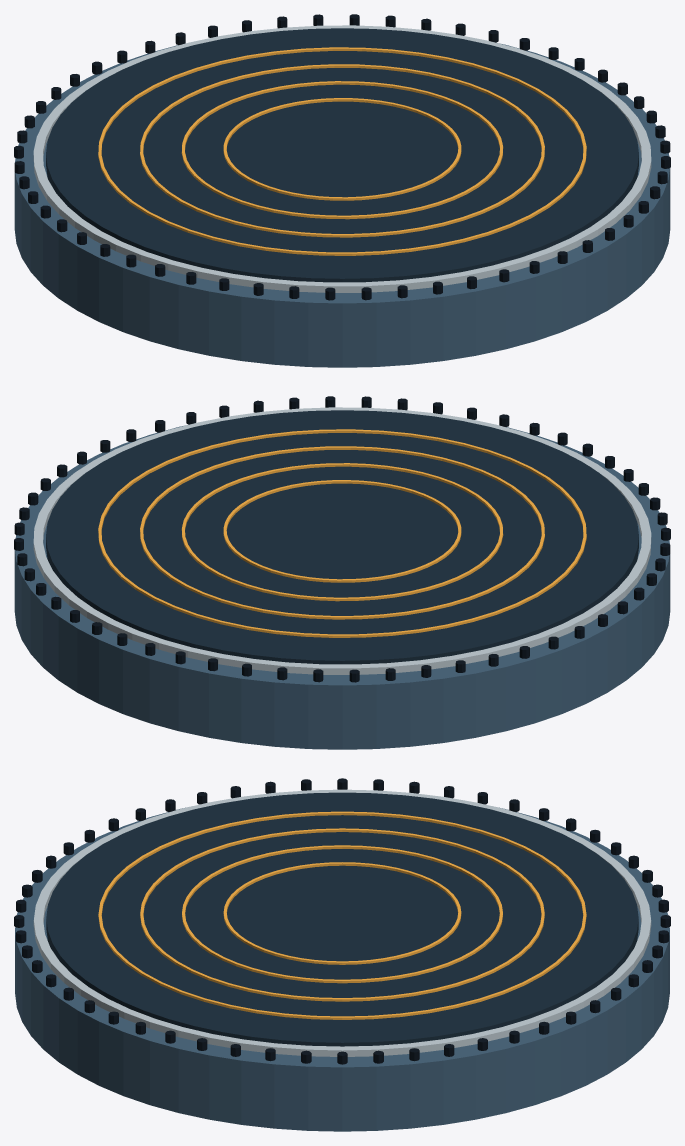
The model's file is 08_L77_BulkCopperPolishingPlaten.fbx.
3 views of the same model, one above another, from view 1: azimuth 30°, elevation 25°; view 2: azimuth 150°, elevation 25°; view 3: azimuth 270°, elevation 25° (orthographic).
Parts seen in each view (by area): view 1: BulkCopperPolishingPlaten_Part_0006, BulkCopperPolishingPlaten_Part_0000, BulkCopperPolishingPlaten_Part_0001, BulkCopperPolishingPlaten_Part_0063, BulkCopperPolishingPlaten_Part_0064, BulkCopperPolishingPlaten_Part_0065, BulkCopperPolishingPlaten_Part_0066; view 2: BulkCopperPolishingPlaten_Part_0006, BulkCopperPolishingPlaten_Part_0000, BulkCopperPolishingPlaten_Part_0001, BulkCopperPolishingPlaten_Part_0063, BulkCopperPolishingPlaten_Part_0064, BulkCopperPolishingPlaten_Part_0065, BulkCopperPolishingPlaten_Part_0066; view 3: BulkCopperPolishingPlaten_Part_0006, BulkCopperPolishingPlaten_Part_0000, BulkCopperPolishingPlaten_Part_0001, BulkCopperPolishingPlaten_Part_0063, BulkCopperPolishingPlaten_Part_0064, BulkCopperPolishingPlaten_Part_0065, BulkCopperPolishingPlaten_Part_0066.
Part boxes in pixels (x1,y1,x2,y2): BulkCopperPolishingPlaten_Part_0006: (46, 28, 638, 282); BulkCopperPolishingPlaten_Part_0000: (14, 43, 670, 367); BulkCopperPolishingPlaten_Part_0001: (33, 25, 651, 292); BulkCopperPolishingPlaten_Part_0063: (98, 47, 586, 255); BulkCopperPolishingPlaten_Part_0064: (140, 64, 544, 237); BulkCopperPolishingPlaten_Part_0065: (181, 81, 503, 219); BulkCopperPolishingPlaten_Part_0066: (223, 98, 461, 200); BulkCopperPolishingPlaten_Part_0006: (46, 410, 638, 664); BulkCopperPolishingPlaten_Part_0000: (14, 425, 670, 749); BulkCopperPolishingPlaten_Part_0001: (33, 407, 651, 674); BulkCopperPolishingPlaten_Part_0063: (98, 429, 586, 637); BulkCopperPolishingPlaten_Part_0064: (140, 446, 544, 619); BulkCopperPolishingPlaten_Part_0065: (181, 463, 503, 601); BulkCopperPolishingPlaten_Part_0066: (223, 480, 461, 582); BulkCopperPolishingPlaten_Part_0006: (46, 792, 638, 1046); BulkCopperPolishingPlaten_Part_0000: (15, 807, 669, 1131); BulkCopperPolishingPlaten_Part_0001: (33, 789, 651, 1056); BulkCopperPolishingPlaten_Part_0063: (98, 811, 586, 1019); BulkCopperPolishingPlaten_Part_0064: (140, 828, 544, 1001); BulkCopperPolishingPlaten_Part_0065: (182, 845, 502, 983); BulkCopperPolishingPlaten_Part_0066: (223, 862, 461, 964).
Bounding box in the file's own units: 315 × 42.8 × 315.
